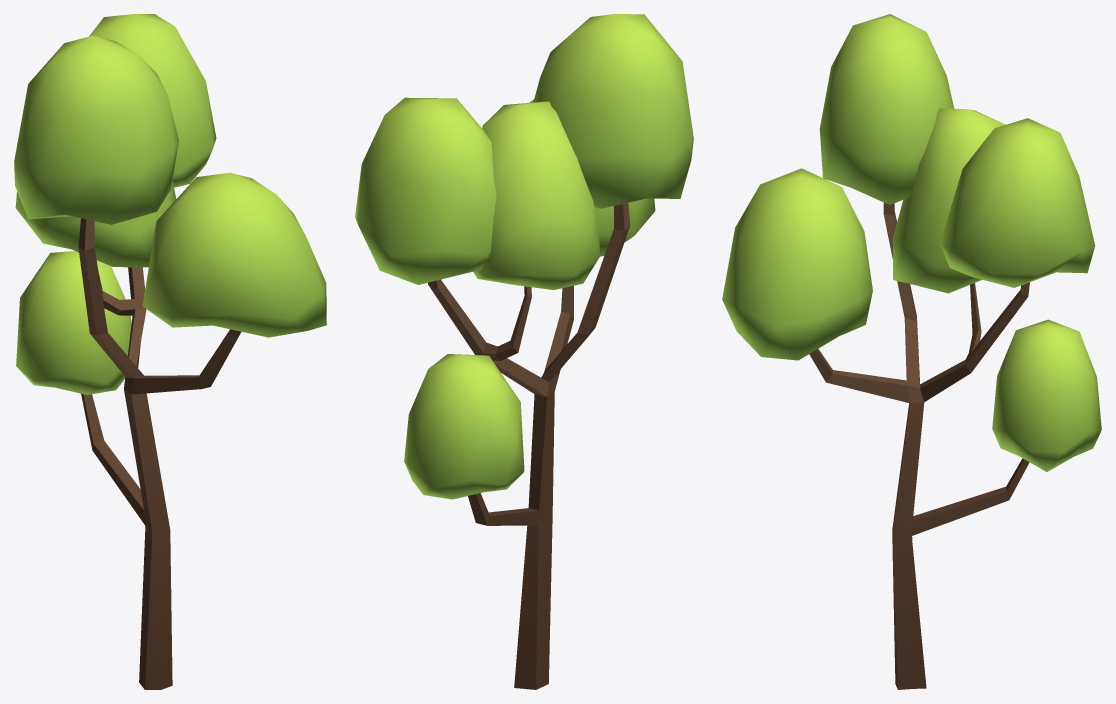
Rendered from Tree1.FBX.
3 views of the same model, side by side, from view 1: azimuth 30°, elevation 25°; view 2: azimuth 150°, elevation 25°; view 3: azimuth 270°, elevation 25° (orthographic). The views are drawn at different scales.
Parts seen in each view (by area): view 1: Tree1; view 2: Tree1; view 3: Tree1.
Boxes of the visible parts, left/top/right/bottom form: Tree1: left=14, top=14, right=326, bottom=689; Tree1: left=355, top=14, right=693, bottom=689; Tree1: left=722, top=14, right=1101, bottom=689.
Bounding box in the file's own units: 265 × 697 × 379.
